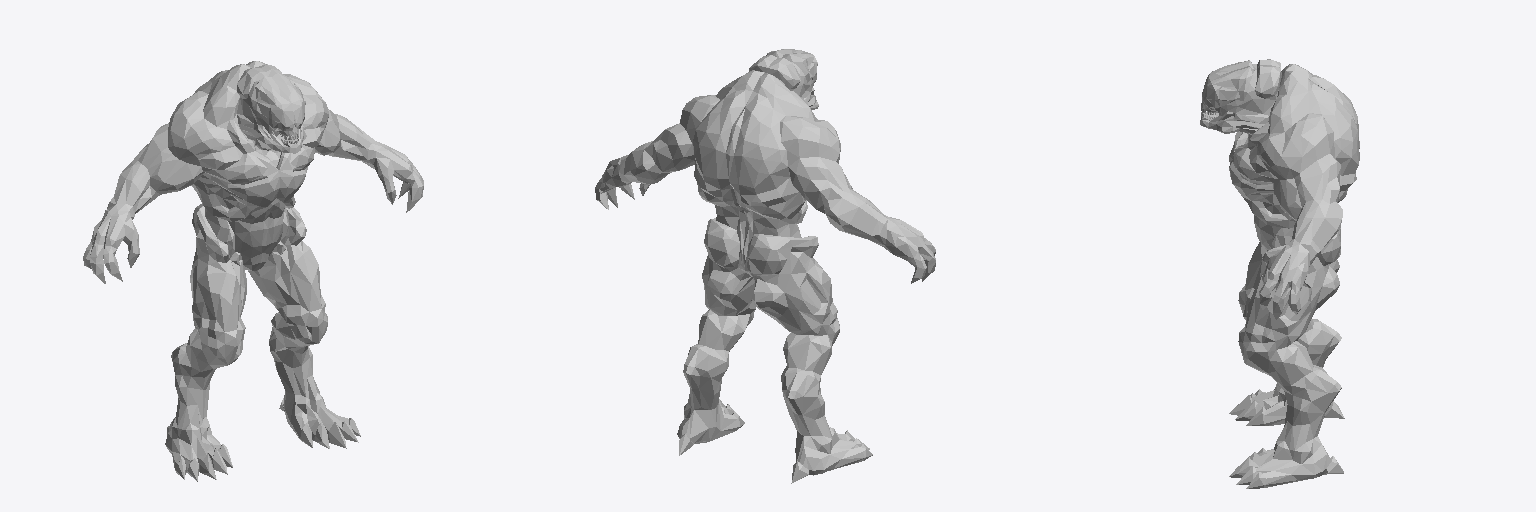
The model's file is monster.obj.
The picture shows the model from 3 angles: view 1: azimuth 30°, elevation 25°; view 2: azimuth 150°, elevation 25°; view 3: azimuth 270°, elevation 25°; orthographic projection.
Visible parts, largest first — view 1: body_Cube; view 2: body_Cube; view 3: body_Cube.
Part boxes in pixels (left/top/right/bottom): body_Cube: left=83, top=61, right=423, bottom=481; body_Cube: left=595, top=49, right=935, bottom=483; body_Cube: left=1200, top=59, right=1359, bottom=488.
Bounding box in the file's own units: 2.52 × 2.77 × 1.04.